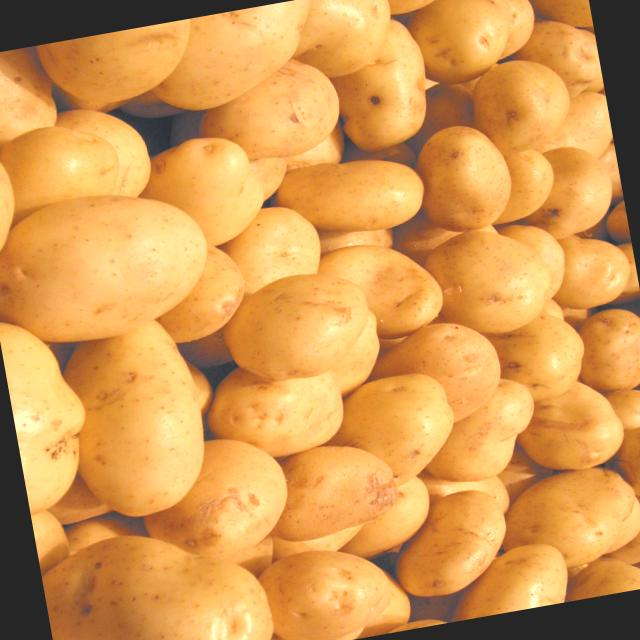potato: (0, 181, 222, 355), (52, 317, 210, 525), (224, 264, 372, 386), (422, 221, 558, 348), (384, 484, 520, 609), (276, 146, 431, 254), (257, 535, 415, 640), (257, 436, 404, 548), (144, 130, 262, 258), (412, 117, 520, 240), (479, 56, 568, 152)
